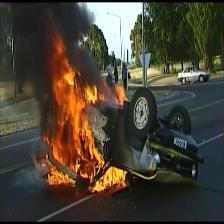fire: (40, 27, 130, 194)
